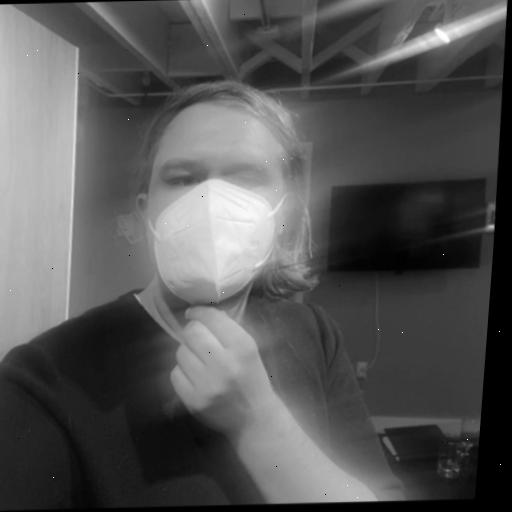mask: (119, 66, 353, 319)
